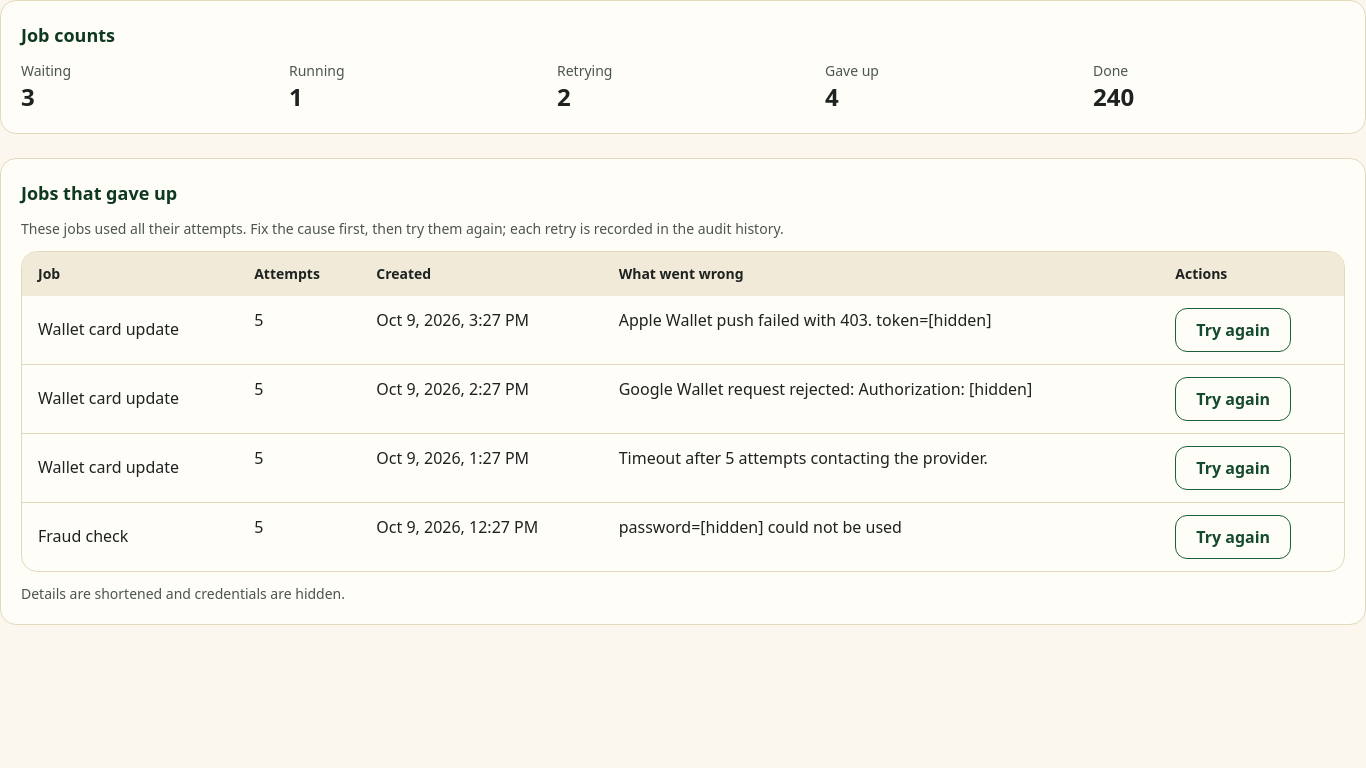
Test: wallet and job health › explains a job someone else already retried, and a refusal by the backend
Click the button "Try again" in the row of "Oct 9, 2026, 3:27 PM".
click(1233, 330)  # box [1175, 308, 1291, 352]
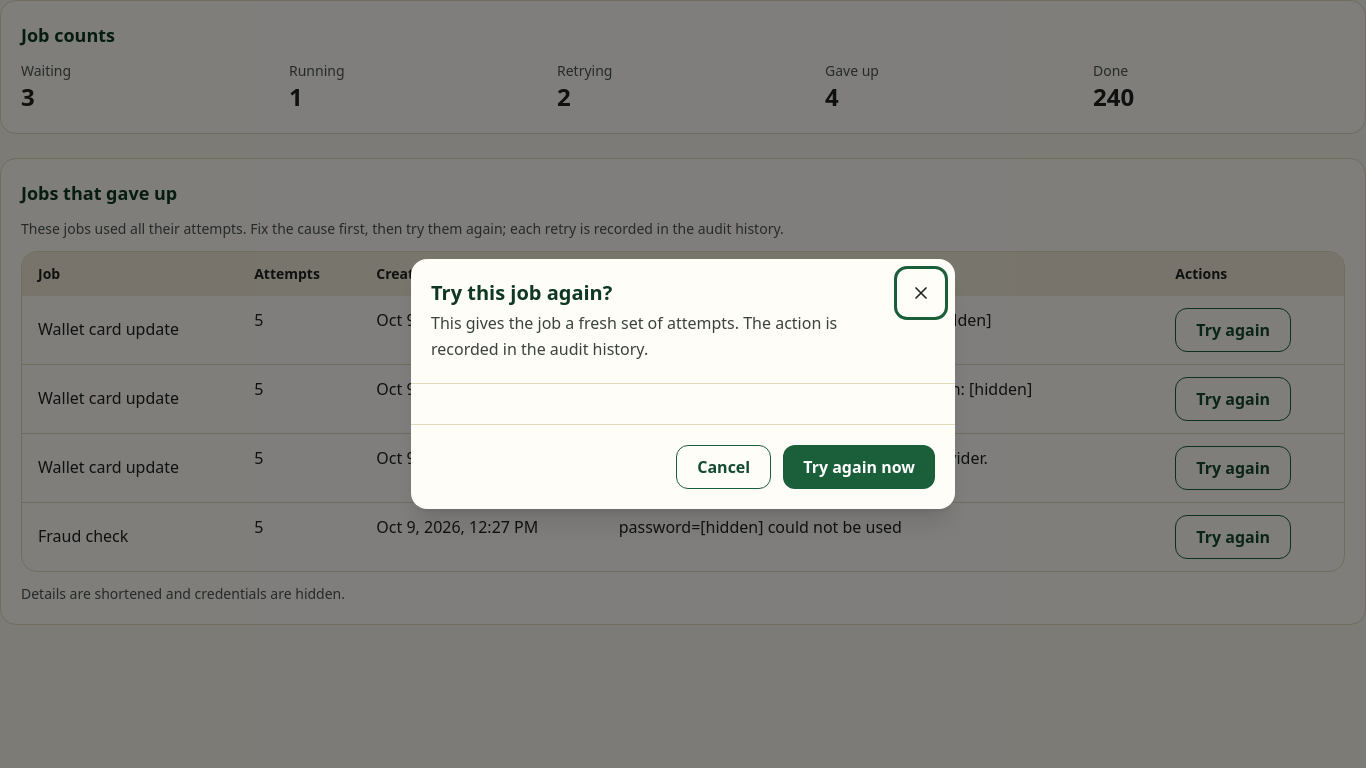
Click the button "Try again now".
click(859, 467)  # box [783, 445, 935, 489]
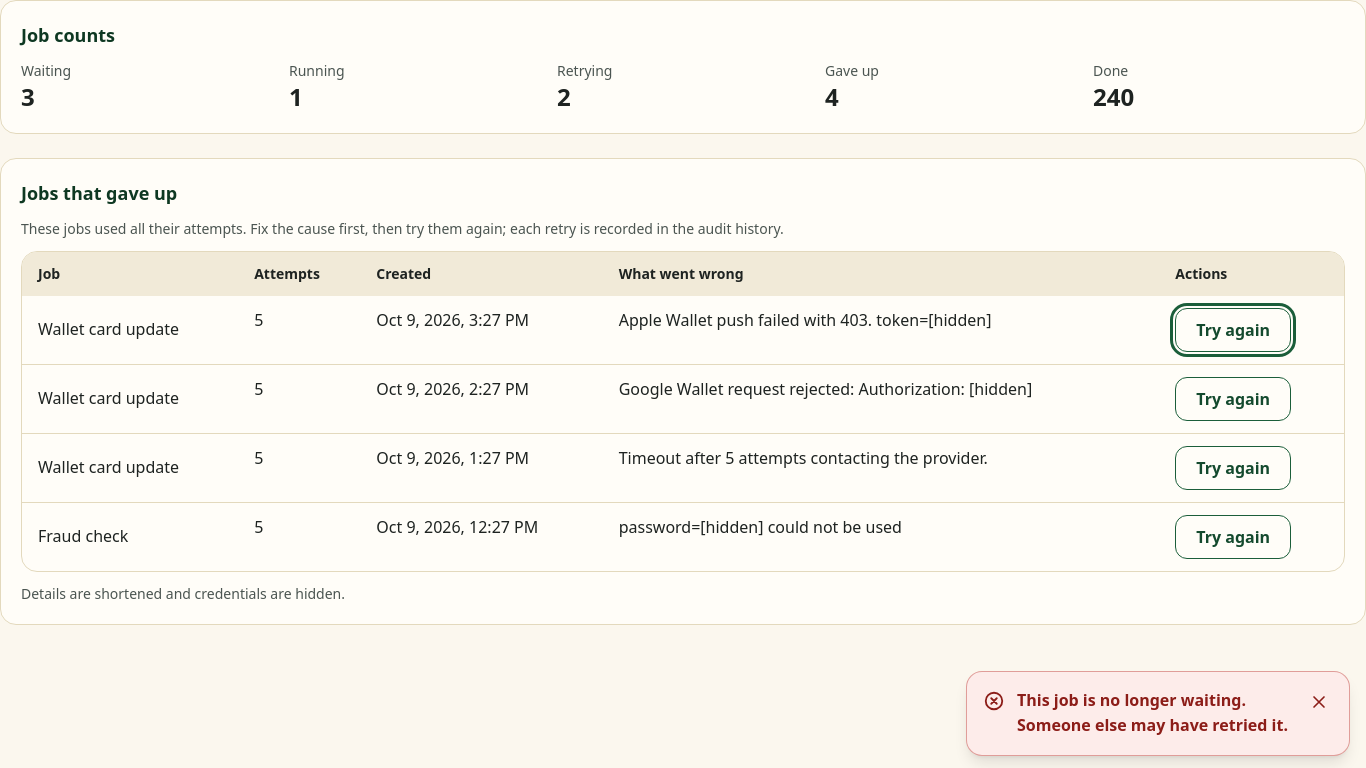
Check: the text "no longer waiting" is shown, box [1017, 689, 1288, 736]
Click the button "Try again" in the row of "Oct 9, 2026, 3:27 PM".
click(1233, 330)  # box [1175, 308, 1291, 352]
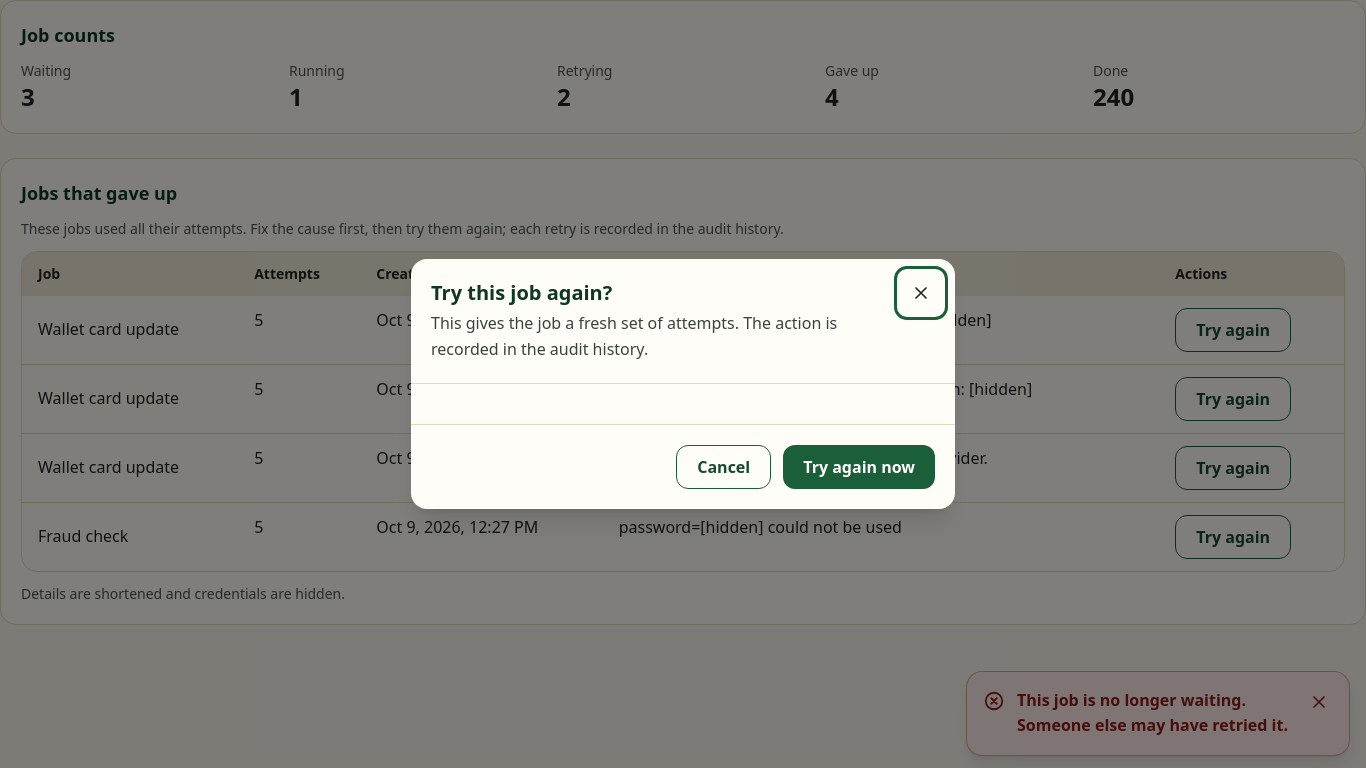
Click the button "Try again now".
click(859, 467)  # box [783, 445, 935, 489]
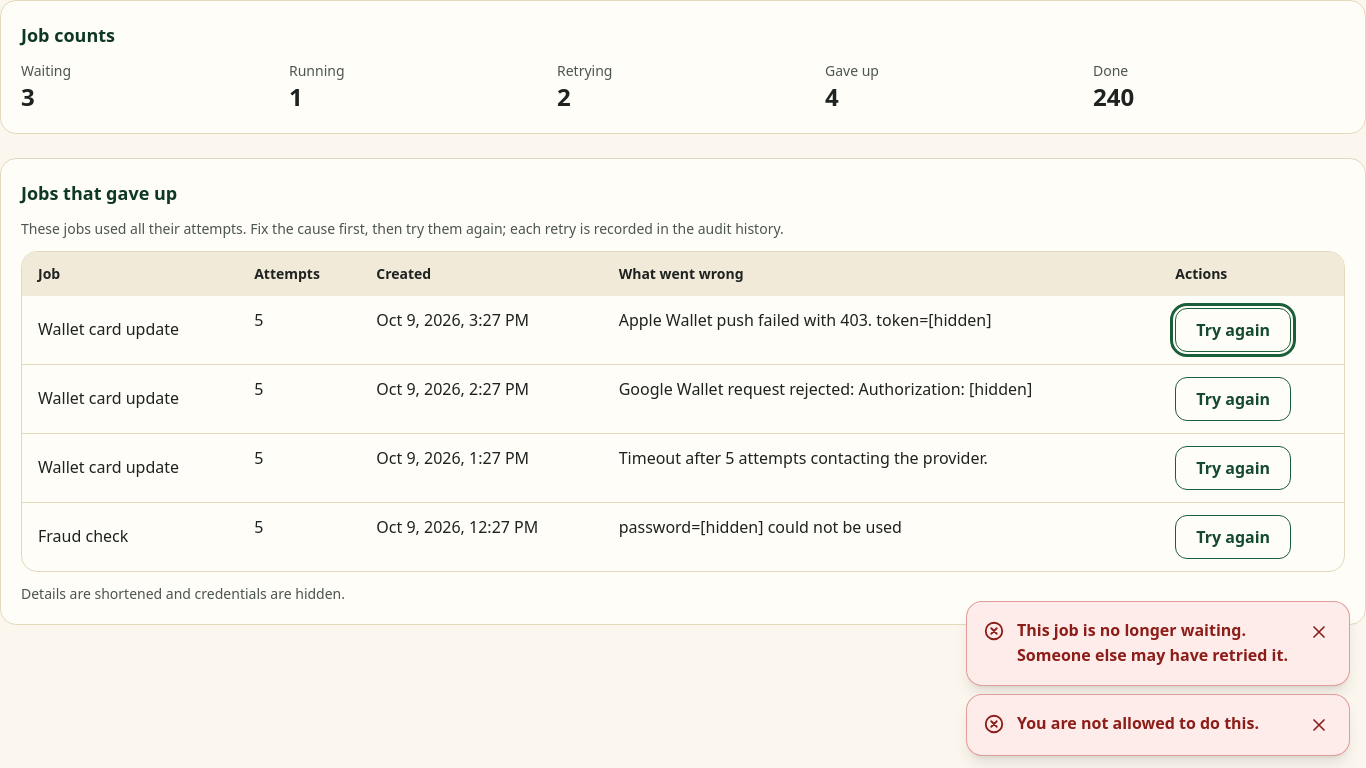
Check: the text "You are not allowed to do this." is shown, box [1017, 711, 1293, 737]
